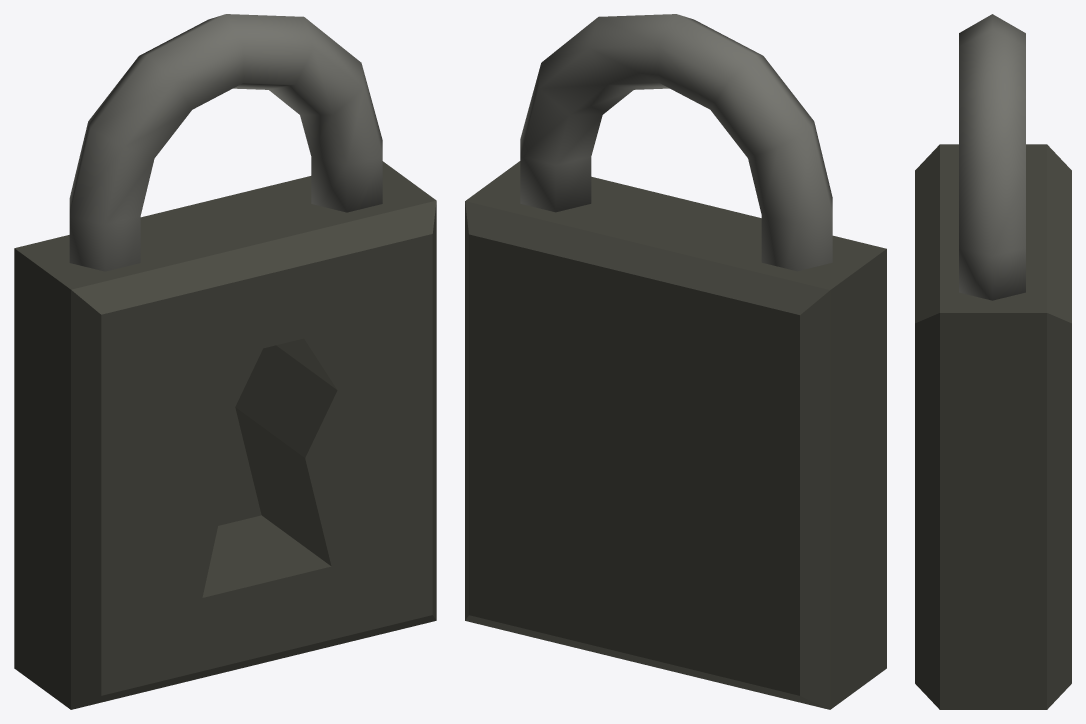
The model's file is padlock.gltf.
3 views of the same model, side by side, from view 1: azimuth 30°, elevation 25°; view 2: azimuth 150°, elevation 25°; view 3: azimuth 270°, elevation 25° (orthographic). The views are drawn at different scales.
Parts seen in each view (by area): view 1: Lock; view 2: Lock; view 3: Lock.
Part boxes in pixels (x1,y1,x2,y2): Lock: (14,14,436,709); Lock: (465,14,886,709); Lock: (915,14,1071,709).
Size of the model in its own units: 0.1162 by 0.1916 by 0.0457.
Materials: 1 (1 with a texture image).
